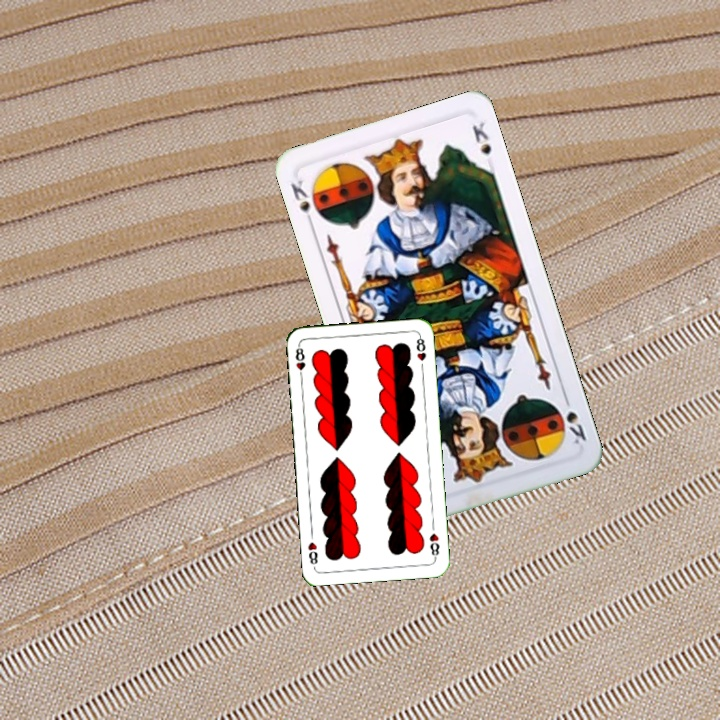H8: (291, 341, 308, 382), (425, 529, 442, 561)
SK: (559, 390, 589, 447), (286, 176, 317, 230)
